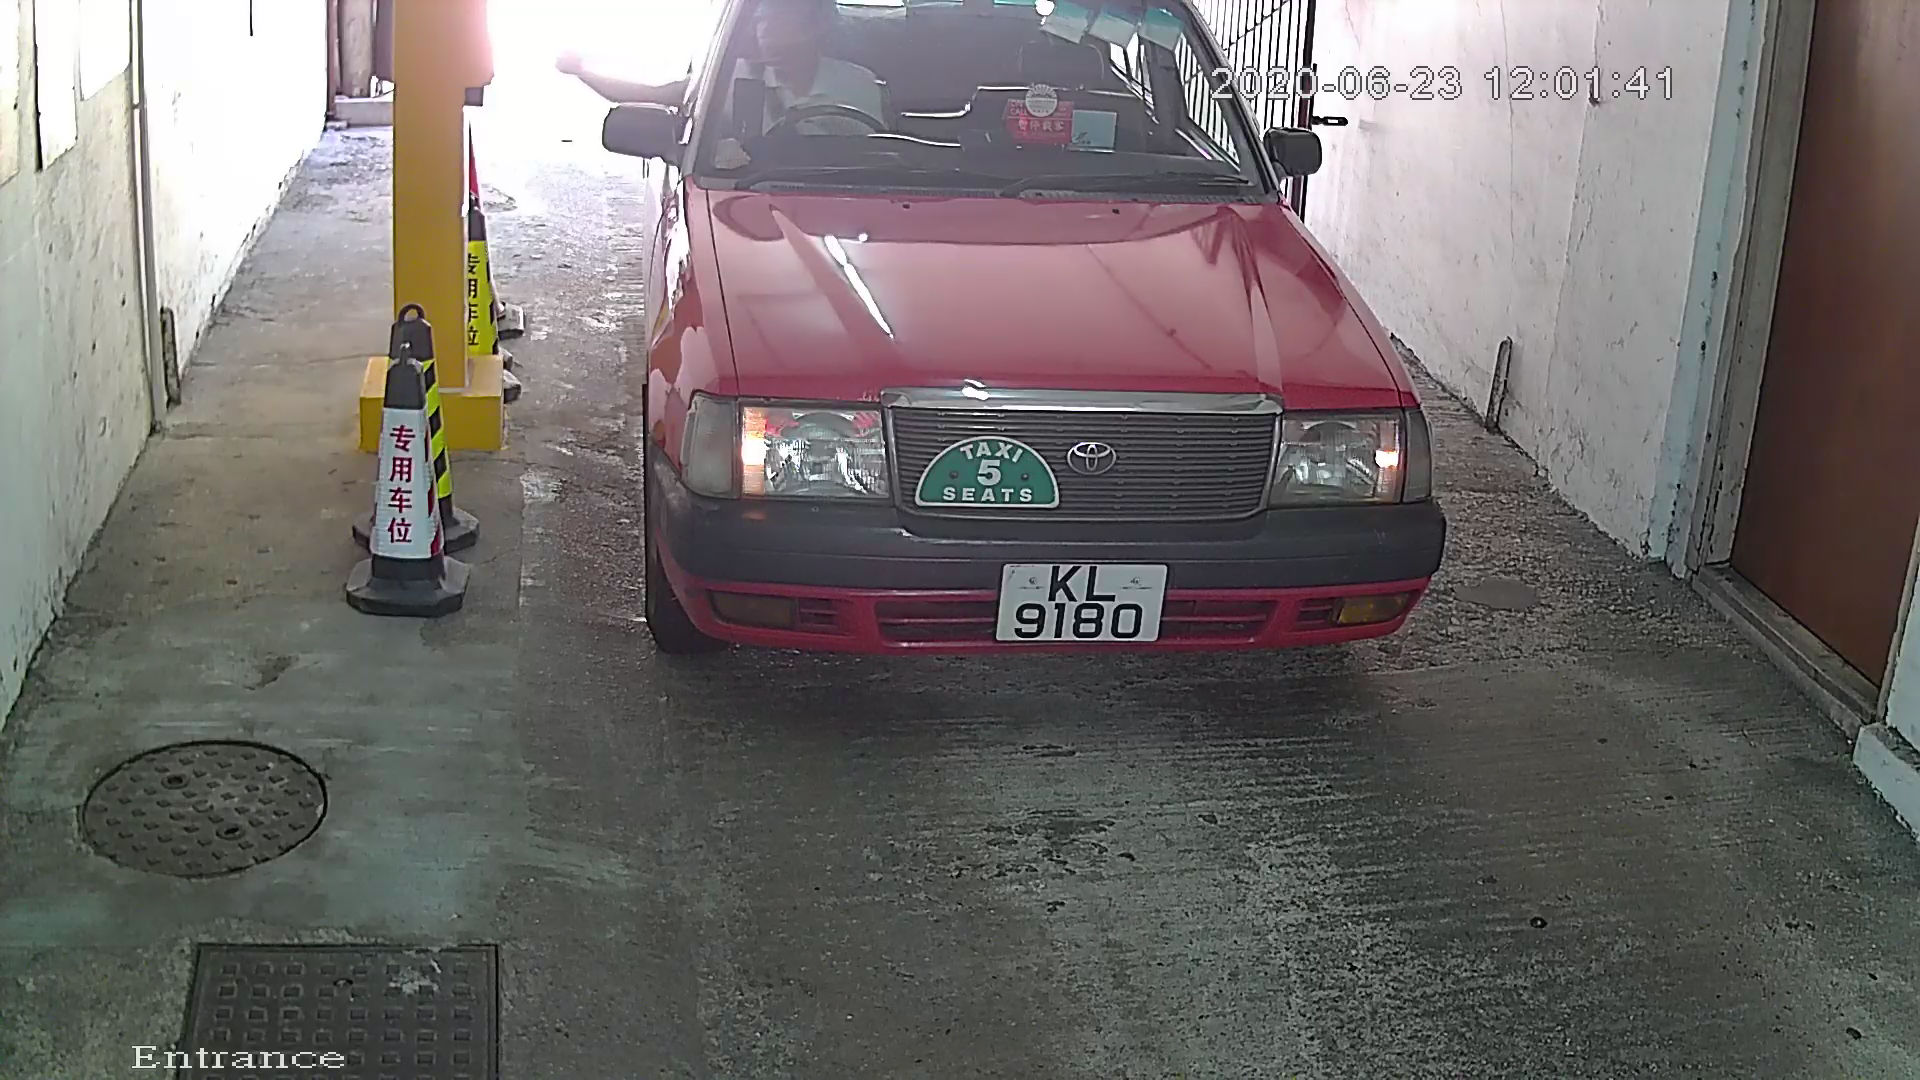taxi: (587, 3, 1549, 778)
taxi_mark: (891, 415, 1087, 520)
